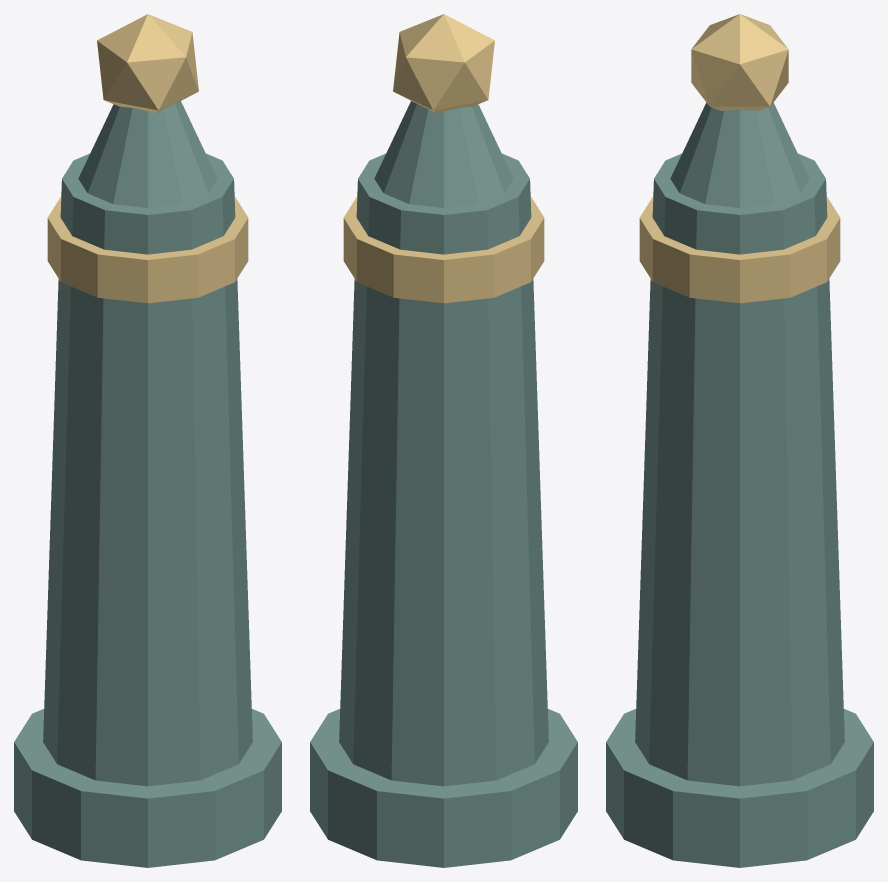
The model's file is Prop_Bollard_A.fbx.
3 views of the same model, side by side, from view 1: azimuth 30°, elevation 25°; view 2: azimuth 150°, elevation 25°; view 3: azimuth 270°, elevation 25° (orthographic).
Parts seen in each view (by area): view 1: Prop_Bollard_A; view 2: Prop_Bollard_A; view 3: Prop_Bollard_A.
Boxes of the visible parts, x1,y1,x2,y2 form: Prop_Bollard_A: (14,14,281,867); Prop_Bollard_A: (310,14,577,867); Prop_Bollard_A: (606,14,873,867).
Size of the model in its own units: 0.28 by 0.92 by 0.28.
